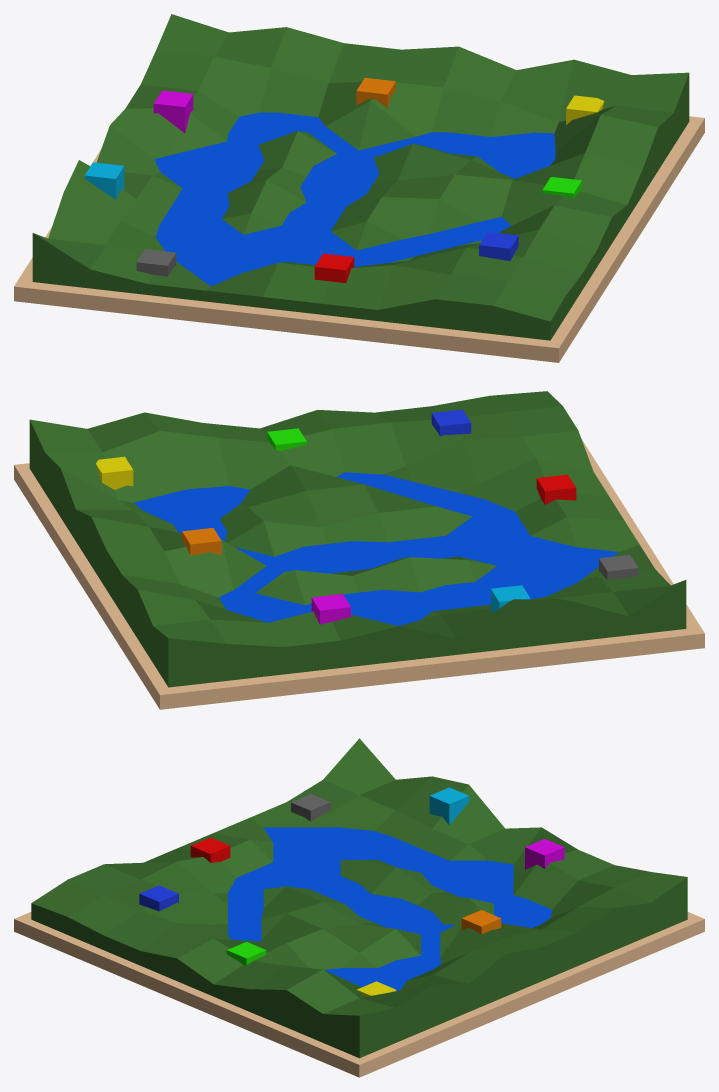
File: cm_canals.glb
3 renders of one model, top to bottom at view 1: azimuth 30°, elevation 25°; view 2: azimuth 150°, elevation 25°; view 3: azimuth 270°, elevation 25°, orthographic. The views are drawn at different scales.
Visible parts, largest first — view 1: Grid, Plane.001, Plane, Cube.004, Cube.003, Cube.001, Cube, Cube.002, Cube.005, Cube.006, Cube.007; view 2: Grid, Plane.001, Plane, Cube.006, Cube.004, Cube.001, Cube.005, Cube, Cube.002, Cube.007, Cube.003; view 3: Grid, Plane.001, Plane, Cube.003, Cube.004, Cube.001, Cube, Cube.002, Cube.005, Cube.007.
Boxes of the visible parts, box(x1,y1,x2,y2) form: Grid: box(32, 14, 689, 340); Plane.001: box(154, 112, 555, 286); Plane: box(14, 116, 704, 362); Cube.004: box(153, 90, 193, 132); Cube.003: box(84, 162, 124, 198); Cube.001: box(314, 253, 354, 282); Cube: box(479, 232, 518, 260); Cube.002: box(136, 249, 176, 276); Cube.005: box(356, 78, 395, 108); Cube.006: box(566, 95, 604, 124); Cube.007: box(542, 177, 581, 198); Grid: box(29, 391, 686, 687); Plane.001: box(134, 472, 618, 625); Plane: box(14, 440, 704, 709); Cube.006: box(96, 456, 133, 489); Cube.004: box(311, 594, 350, 624); Cube.001: box(536, 474, 576, 504); Cube.005: box(182, 528, 221, 555); Cube: box(431, 409, 471, 436); Cube.002: box(599, 555, 638, 579); Cube.007: box(267, 428, 306, 450); Cube.003: box(491, 585, 530, 613); Grid: box(31, 738, 687, 1058); Plane.001: box(228, 827, 552, 991); Plane: box(14, 912, 704, 1077); Cube.003: box(429, 787, 469, 825); Cube.004: box(525, 839, 564, 869); Cube.001: box(190, 837, 230, 862); Cube: box(139, 885, 178, 911); Cube.002: box(291, 794, 330, 821); Cube.005: box(461, 910, 501, 934); Cube.007: box(226, 942, 266, 965).
Bounding box in the file's own units: 5.66 × 0.4994 × 5.66.
